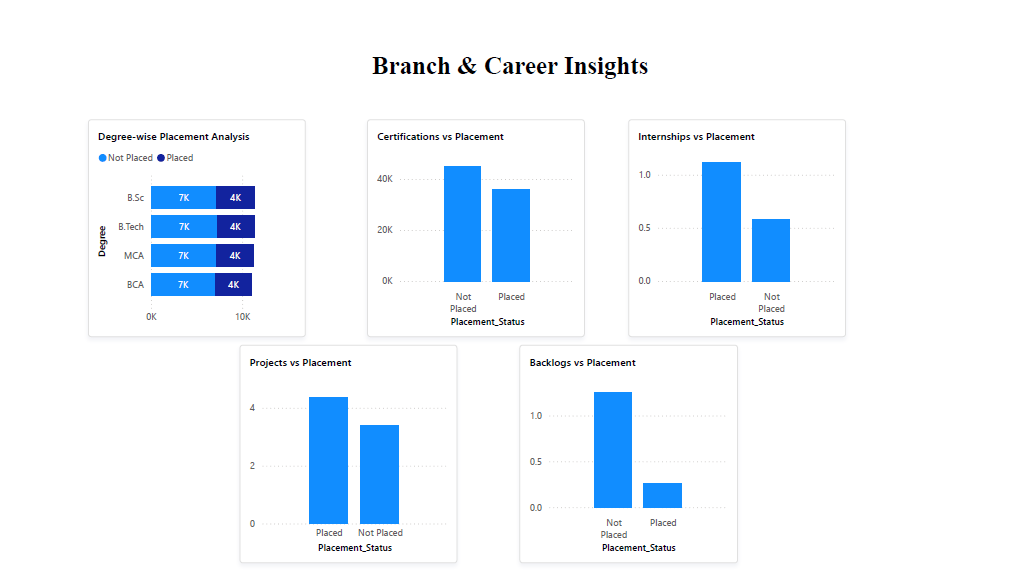

The dashboard page shown, as its layout file describes it:
{"tool":"powerbi","page":{"name":"Page 3","canvas":[1280,720],"ordinal":2},"visuals":[{"type":"barChart","title":"Degree-wise Placement Analysis","fields":{"Category":["train.Degree"],"Y":["CountNonNull(train.Student_ID)"],"Series":["train.Placement_Status"]},"box":[96.7,136.1,280.3,280.3],"z":0},{"type":"clusteredColumnChart","title":"Internships vs Placement","fields":{"Category":["train.Placement_Status"],"Y":["Avg(train.Internships)"]},"box":[791.8,136.1,280.3,280.3],"z":1000},{"type":"clusteredColumnChart","title":"Certifications vs Placement","fields":{"Category":["train.Placement_Status"],"Y":["Sum(train.Certifications)"]},"box":[455.7,136.1,280.3,280.3],"z":2000},{"type":"clusteredColumnChart","title":"Projects vs Placement","fields":{"Category":["train.Placement_Status"],"Y":["Avg(train.Projects)"]},"box":[291.8,426.2,280.3,280.3],"z":3000},{"type":"clusteredColumnChart","title":"Backlogs vs Placement","fields":{"Category":["train.Placement_Status"],"Y":["Avg(train.Backlogs)"]},"box":[652.5,426.2,280.3,280.3],"z":4000},{"type":"textbox","box":[442.5,44.3,395.1,55.7],"z":5000}]}

Visuals, with their boxes in screenshot pixels (x1, y1, x2, y2), scaled from the page's 1280x720 canvas onto the 1015x584 screenshot:
"Degree-wise Placement Analysis" barChart: crop(77, 110, 299, 338)
"Internships vs Placement" clusteredColumnChart: crop(628, 110, 850, 338)
"Certifications vs Placement" clusteredColumnChart: crop(361, 110, 584, 338)
"Projects vs Placement" clusteredColumnChart: crop(231, 346, 454, 573)
"Backlogs vs Placement" clusteredColumnChart: crop(517, 346, 740, 573)
textbox: crop(351, 36, 664, 81)
